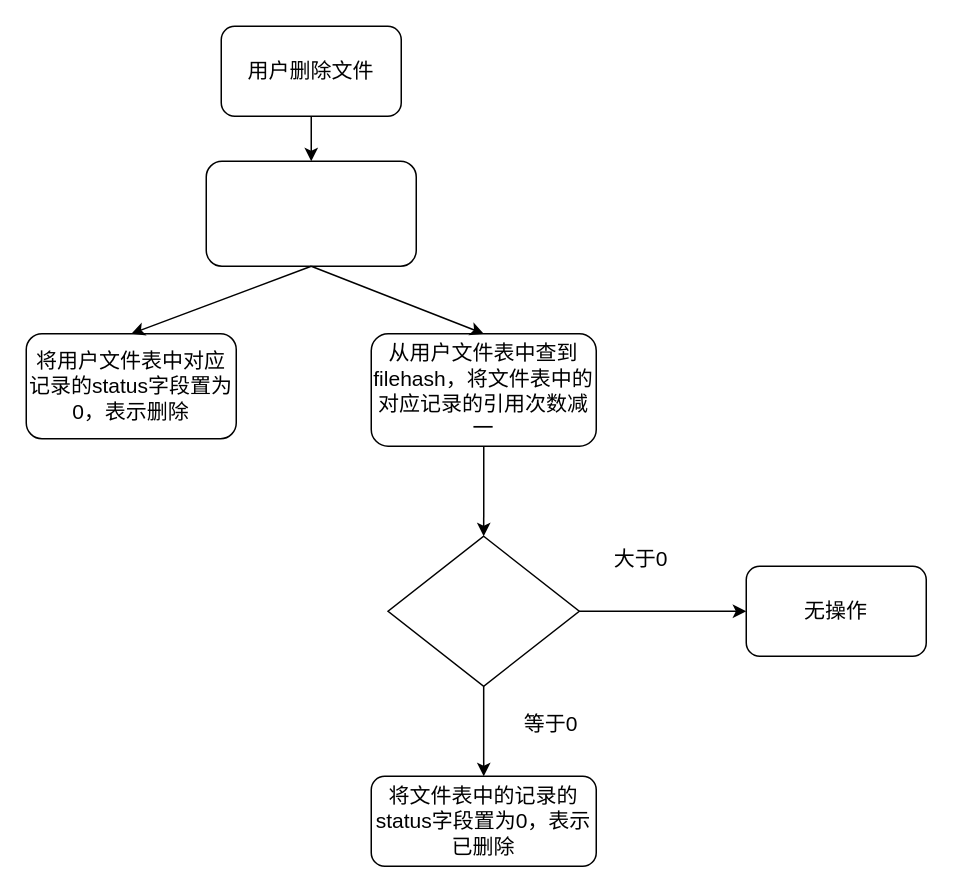
This 953x893 diagram has some shape labels left out. Each missing label, with the centre of its shape:
"向删除文件接口传递用户文件表中的记录id" goes at pixel 310 213.
"引用次数是否为0" goes at pixel 483 610.
